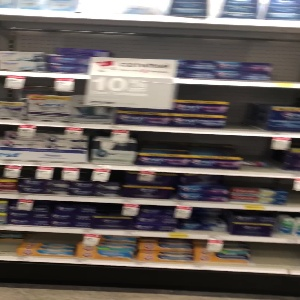void: (229, 87, 270, 130), (243, 144, 300, 170), (270, 34, 300, 81), (250, 244, 300, 266)
